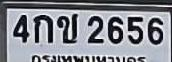2: (87, 15, 102, 42)
4: (12, 14, 28, 42)
5: (127, 15, 142, 42)
6: (107, 16, 122, 43), (147, 17, 162, 44)
A01: (33, 14, 52, 42)
A10: (56, 12, 77, 43)
